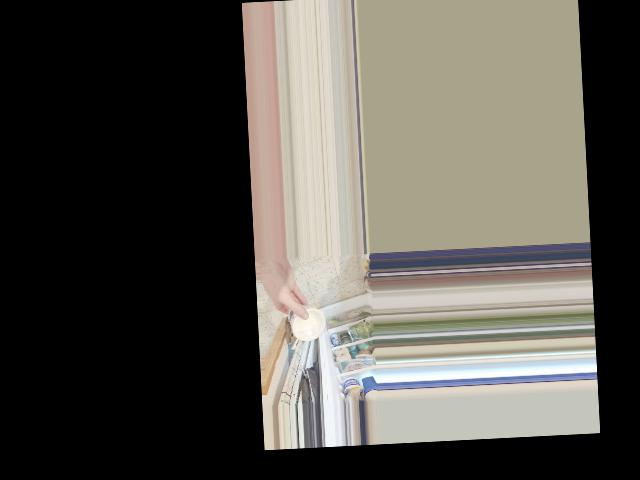cotage: (282, 300, 326, 343)
